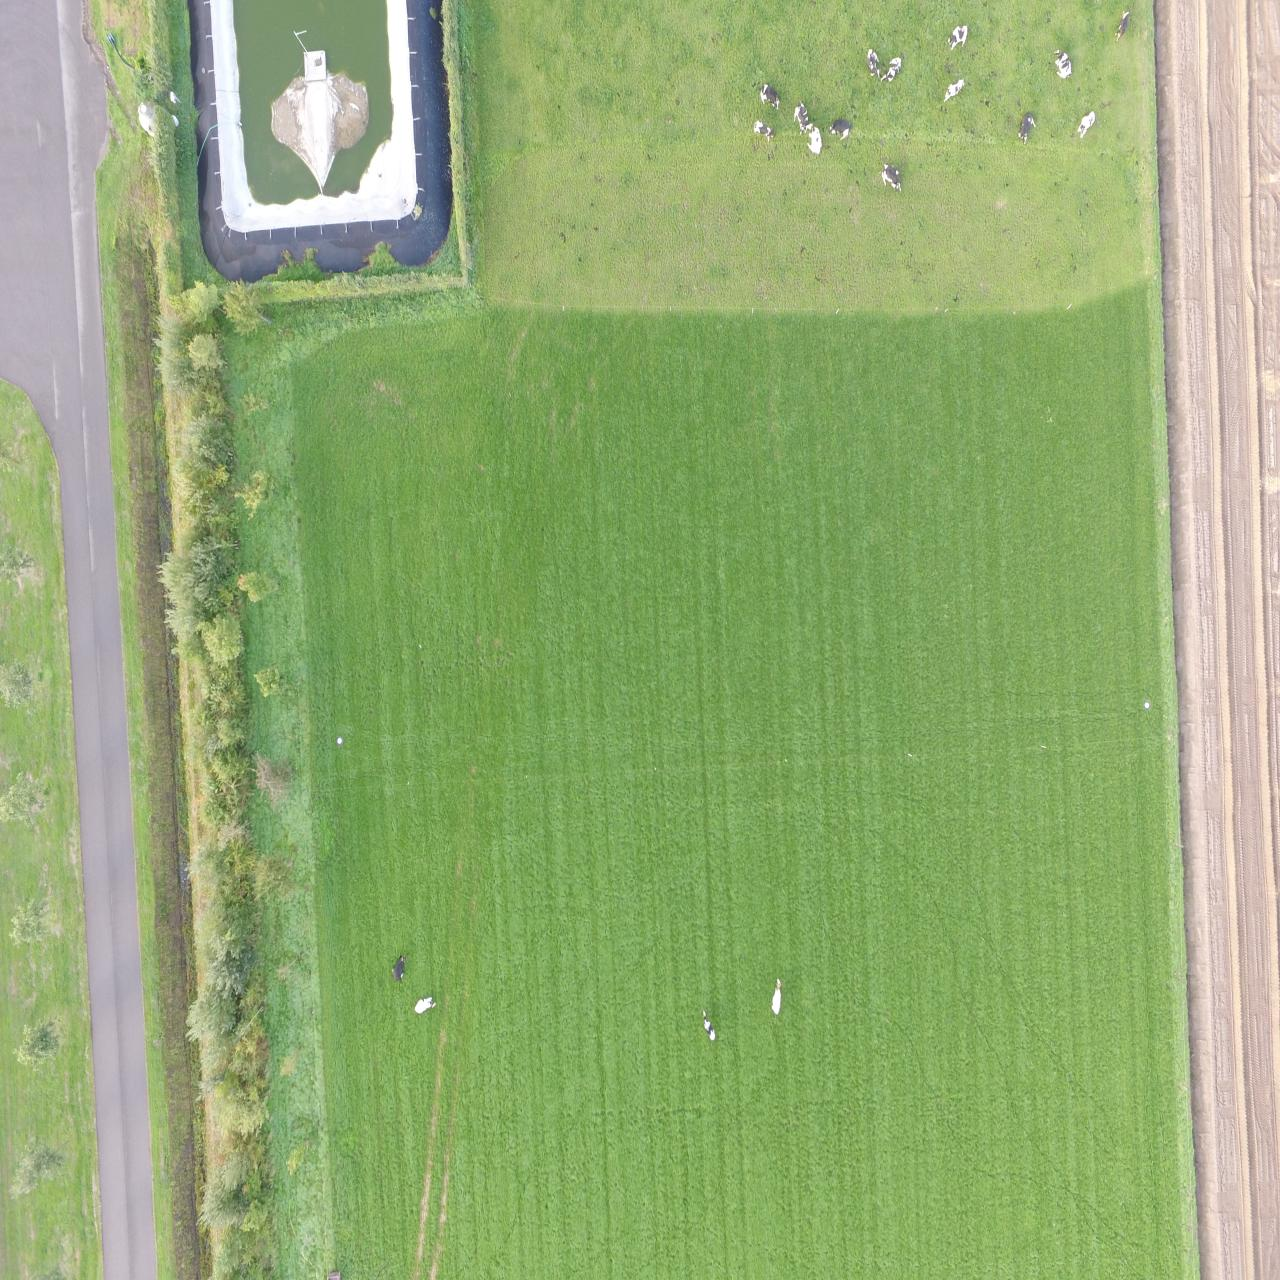cow: (879, 158, 903, 193), (699, 1008, 719, 1048), (756, 82, 782, 109), (1019, 109, 1036, 148), (414, 989, 436, 1020), (1051, 48, 1073, 80), (750, 117, 776, 143), (791, 98, 810, 134), (828, 116, 853, 141), (388, 954, 409, 983), (1111, 7, 1129, 42), (941, 77, 965, 102), (881, 55, 901, 83), (1077, 108, 1095, 138), (948, 23, 968, 49), (865, 47, 880, 80), (806, 124, 823, 155), (771, 976, 783, 1016)
